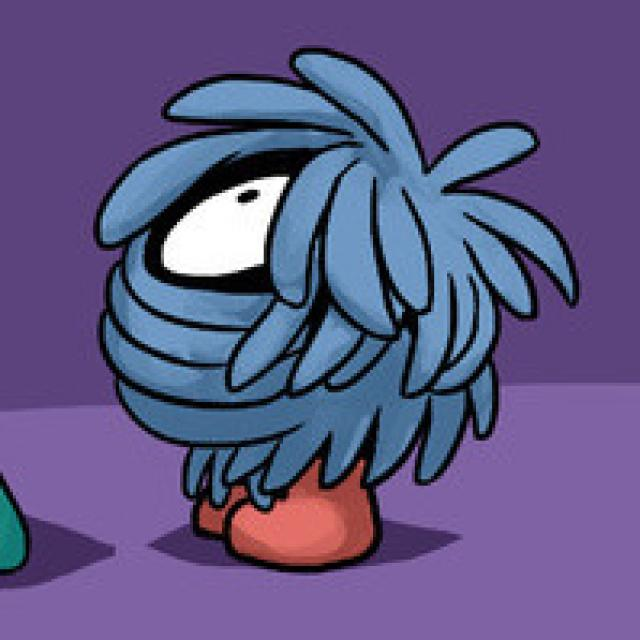Tangela: (120, 74, 512, 571)
